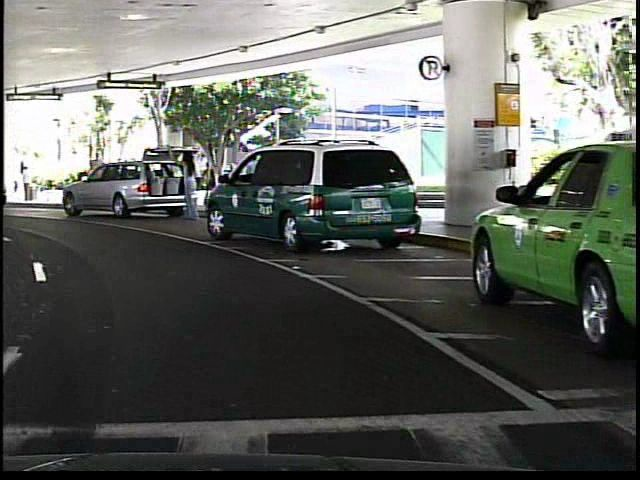person: (183, 155, 215, 213), (178, 147, 197, 227), (82, 149, 105, 201)
